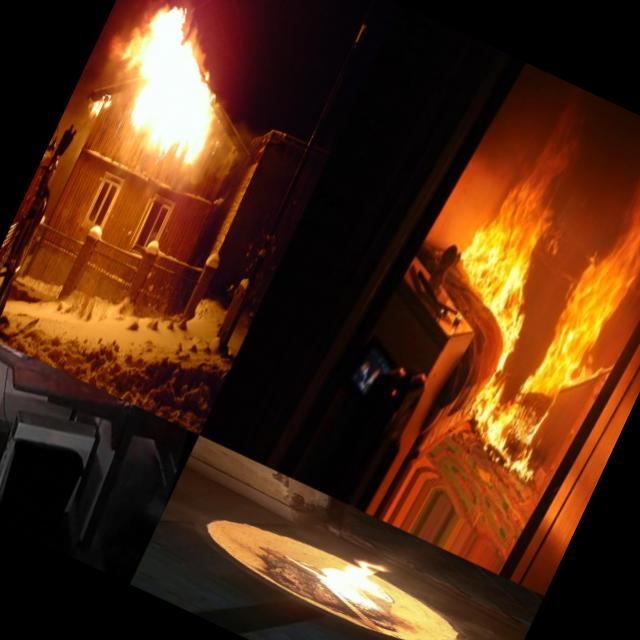fire: (79, 0, 262, 175), (519, 204, 640, 421), (451, 164, 580, 316), (454, 381, 564, 480), (316, 541, 416, 621), (475, 310, 532, 388)
smoke: (526, 99, 598, 192), (615, 123, 640, 230)
